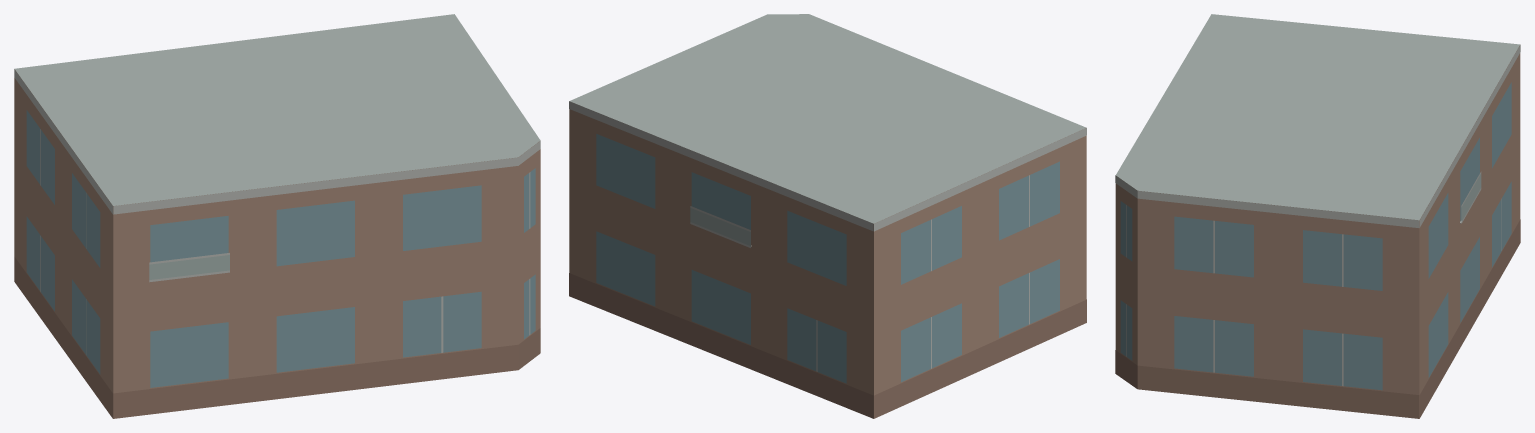
File: survey-upis-32654057.glb
The picture shows the model from 3 angles, left to right: view 1: azimuth 30°, elevation 25°; view 2: azimuth 150°, elevation 25°; view 3: azimuth 270°, elevation 25°; orthographic projection. The views are drawn at different scales.
Parts seen in each view (by area): view 1: survey-upis-32654057.tmp; view 2: survey-upis-32654057.tmp; view 3: survey-upis-32654057.tmp.
Boxes of the visible parts, x1,y1,x2,y2 form: survey-upis-32654057.tmp: (14, 14, 540, 418); survey-upis-32654057.tmp: (569, 14, 1086, 418); survey-upis-32654057.tmp: (1115, 14, 1520, 418).
Size of the model in its own units: 13.6 by 6.1 by 11.28.
